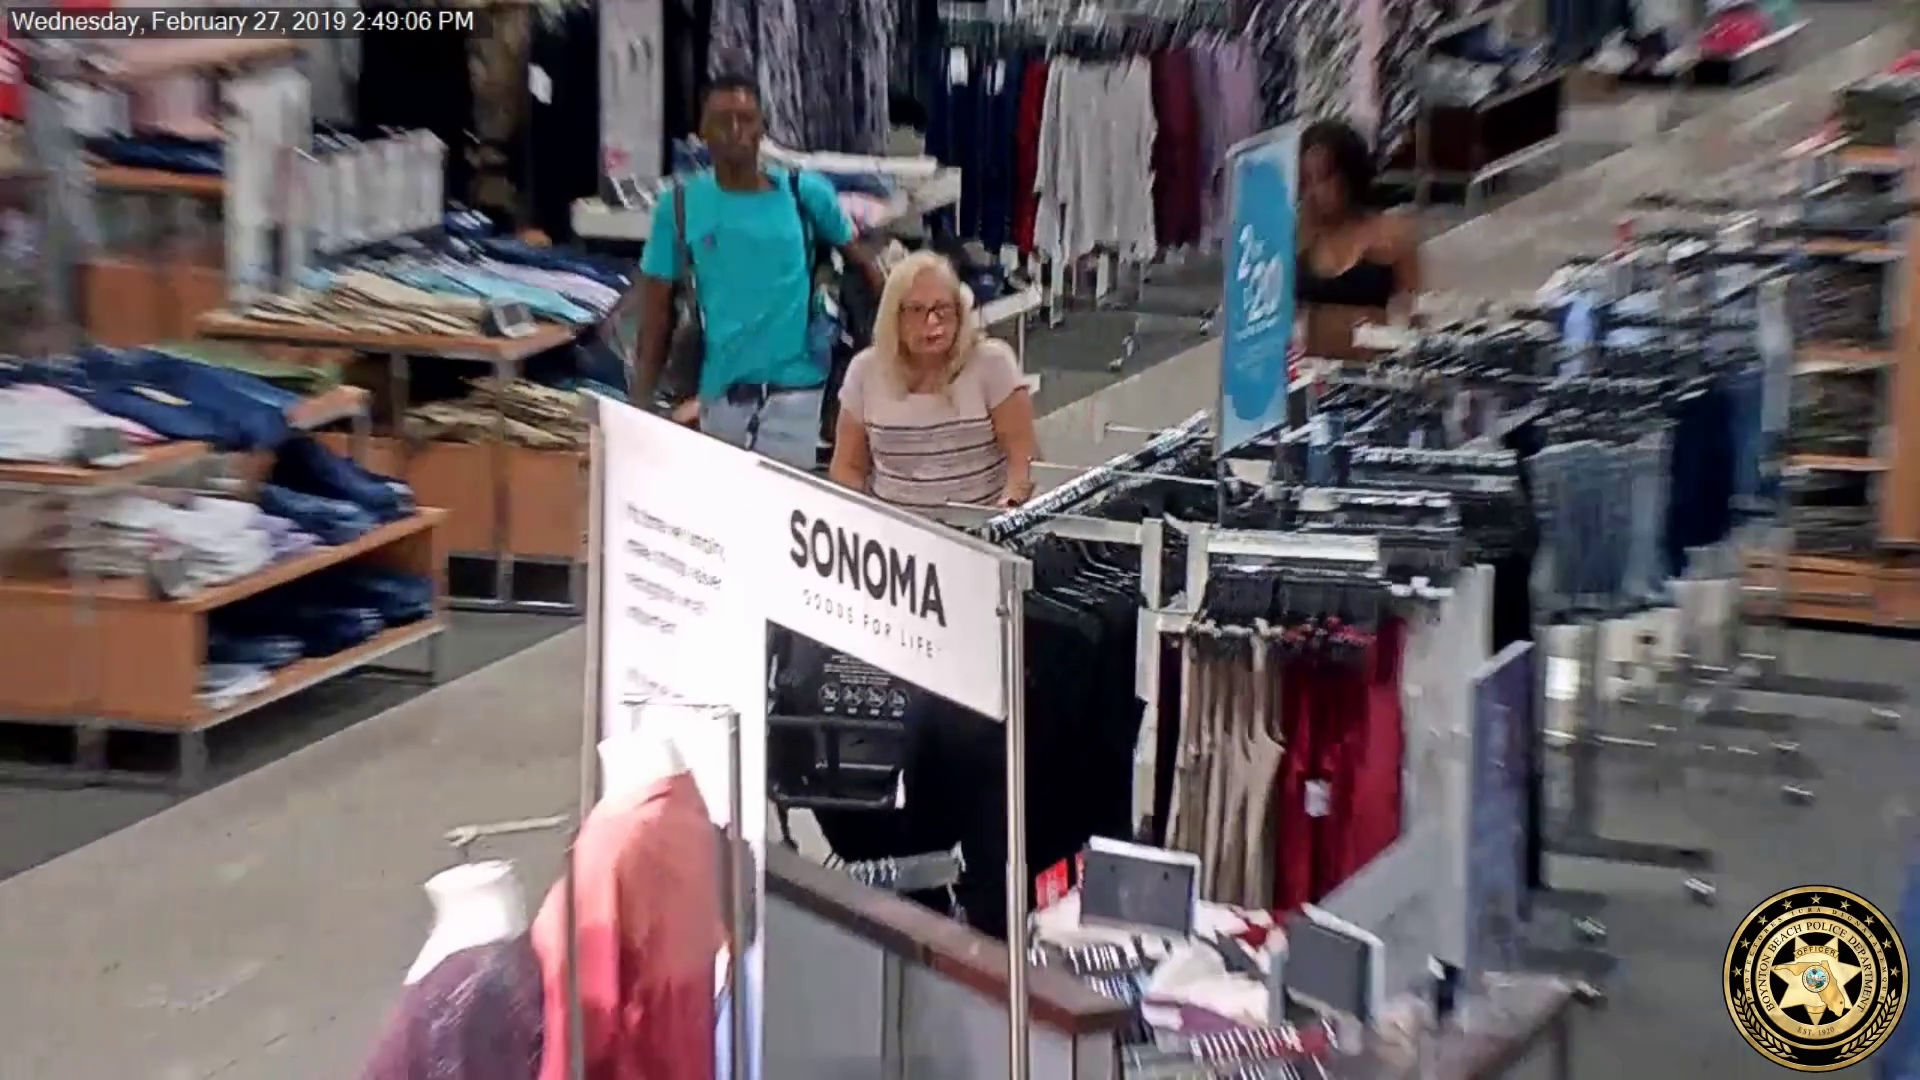face: (899, 279, 962, 364), (707, 91, 764, 166)
